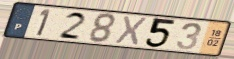1: (35, 8, 52, 38)
2: (55, 12, 89, 41)
3: (175, 21, 203, 50)
5: (144, 18, 179, 50)
8: (87, 12, 118, 45)
X: (113, 15, 150, 47)
